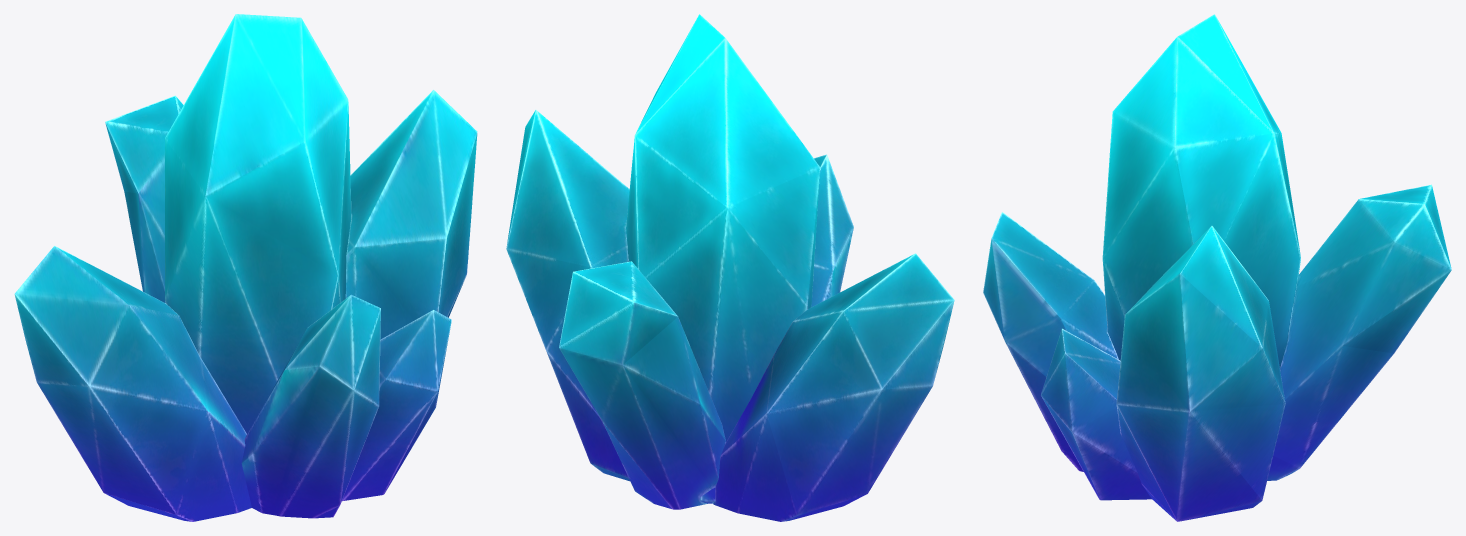
The model's file is crystal.glb.
The picture shows the model from 3 angles, left to right: view 1: azimuth 30°, elevation 25°; view 2: azimuth 150°, elevation 25°; view 3: azimuth 270°, elevation 25°; orthographic projection. The views are drawn at different scales.
Parts seen in each view (by area): view 1: crystals; view 2: crystals; view 3: crystals.
Boxes of the visible parts, left/top/right/bottom form: crystals: left=14, top=14, right=477, bottom=521; crystals: left=506, top=14, right=954, bottom=521; crystals: left=983, top=14, right=1451, bottom=521.
Size of the model in its own units: 505 by 490 by 469.
Materials: 1 (1 with a texture image).
